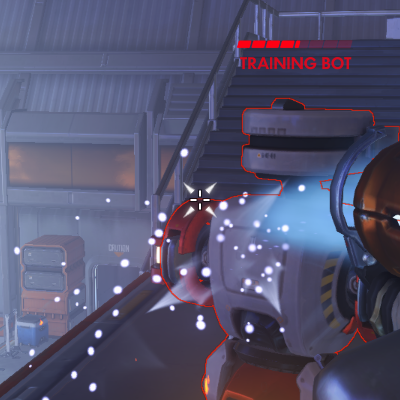hpbar: (236, 39, 353, 49)
